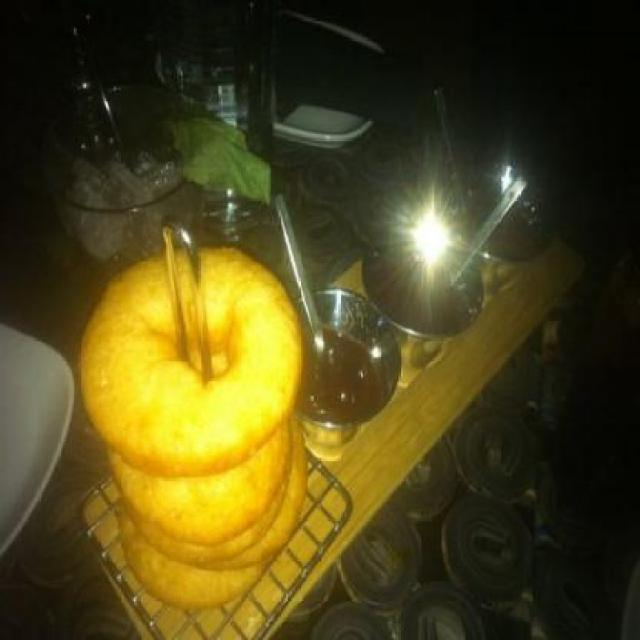Donuts: (64, 222, 312, 638)
